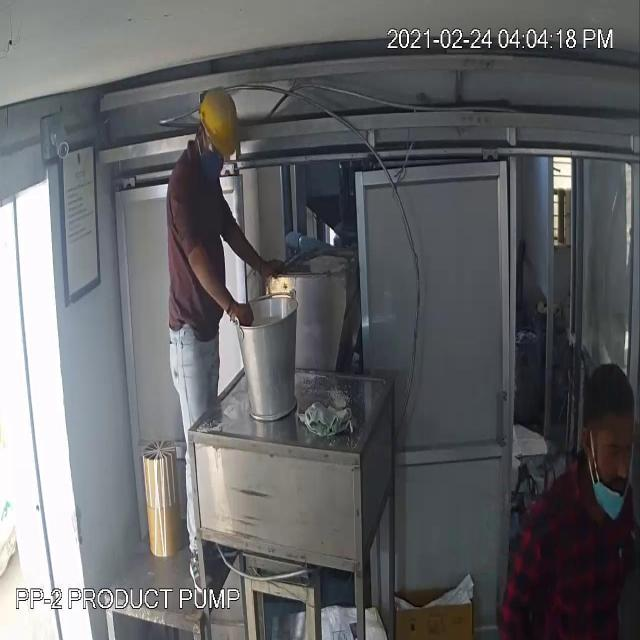helmet: (192, 89, 244, 157)
no-helmet: (576, 357, 640, 473)
